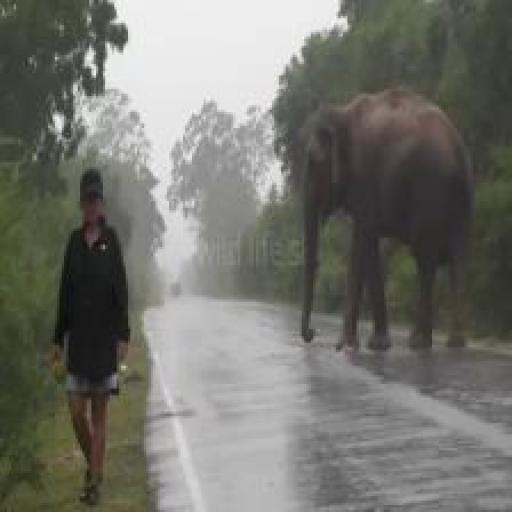Elephant: (261, 68, 505, 372)
